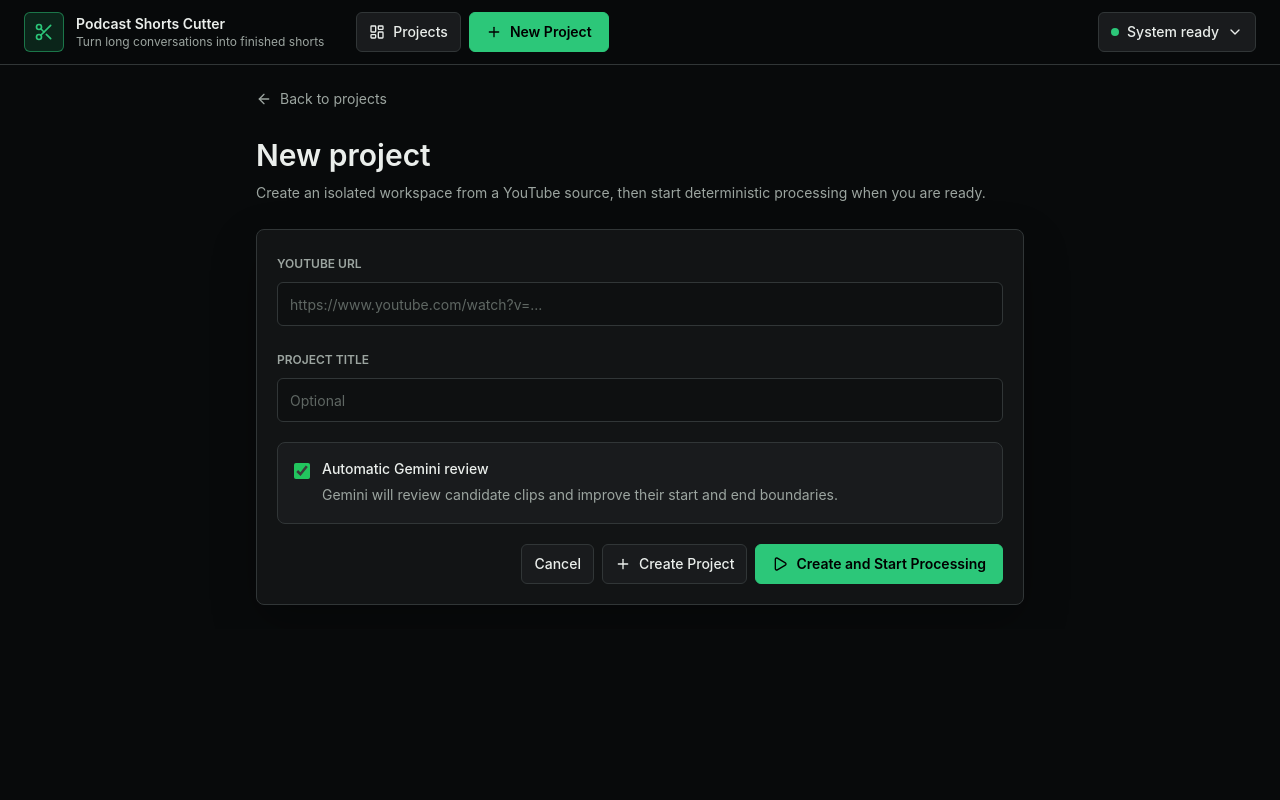
Test: Product UI › creates a project and navigates to it
Type "https://www.youtube.com/watch?v=newshow" into the field labelled "YouTube URL" at (640, 304), box [277,282,1003,326]
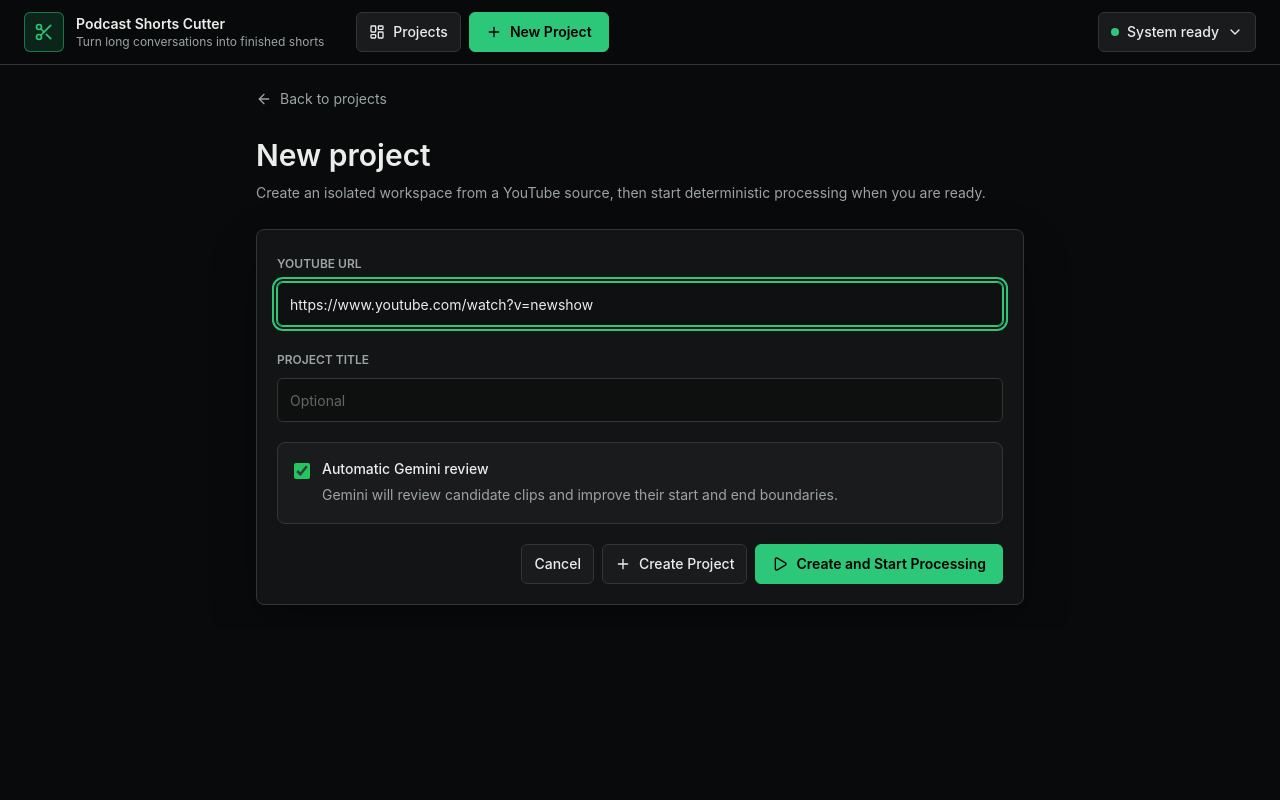
Type "New Show" into the field labelled "Project title" at (640, 400), box [277,378,1003,422]
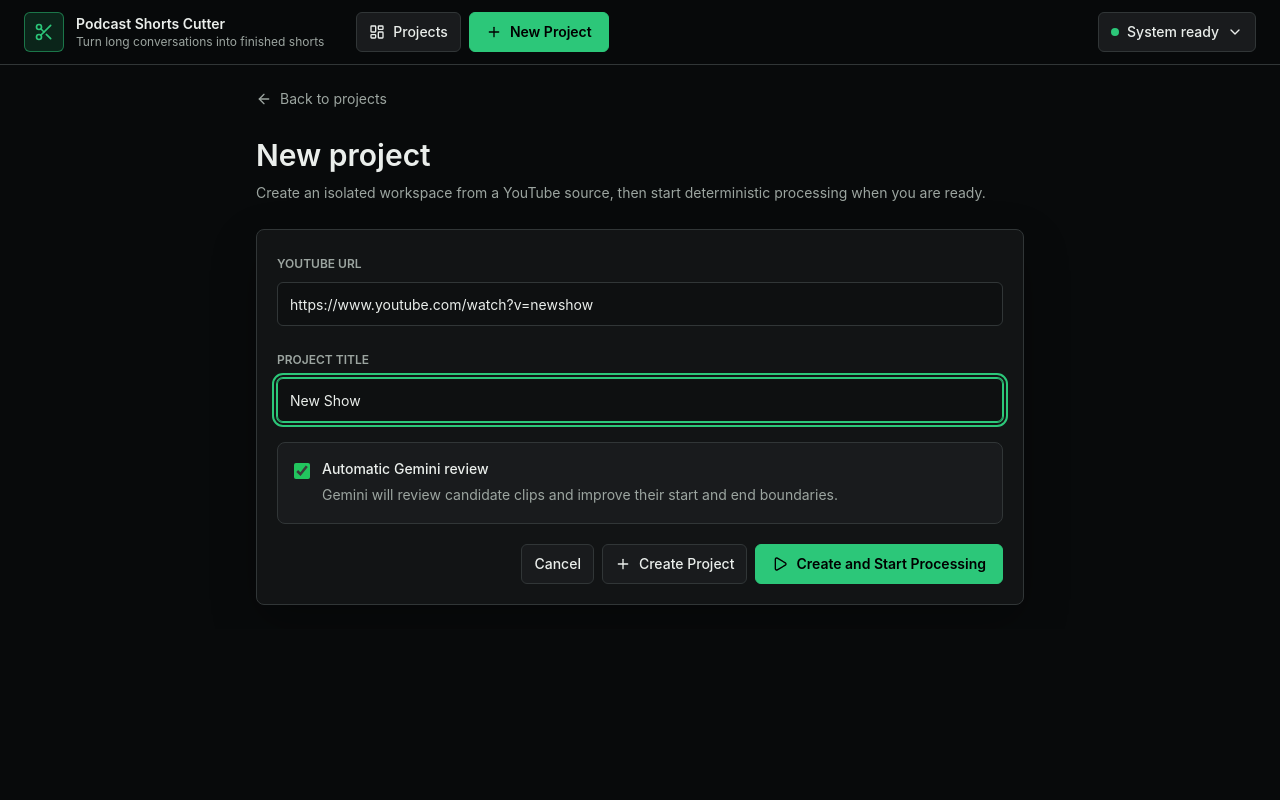
Click the button "Create Project" at (675, 564), box [602,544,748,584]
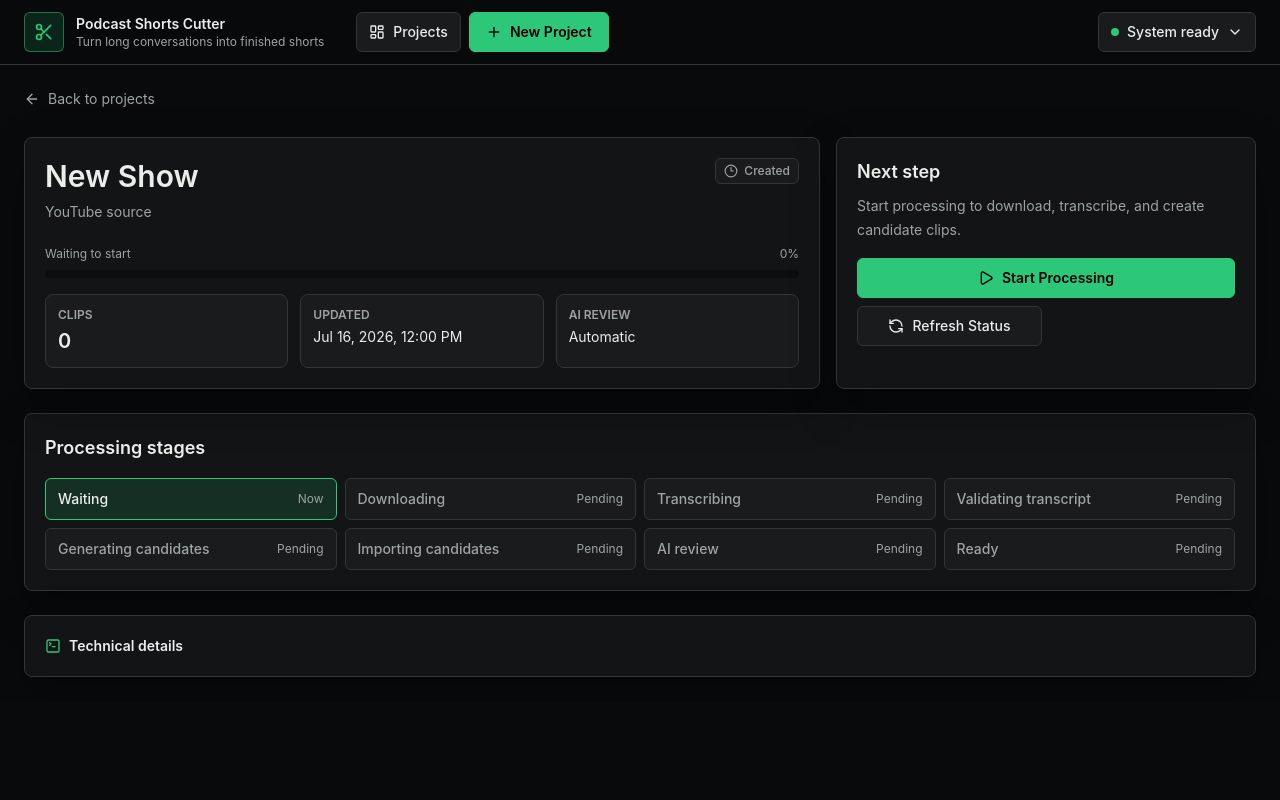
Result: the heading "New Show" is shown at [45,158,199,194]
